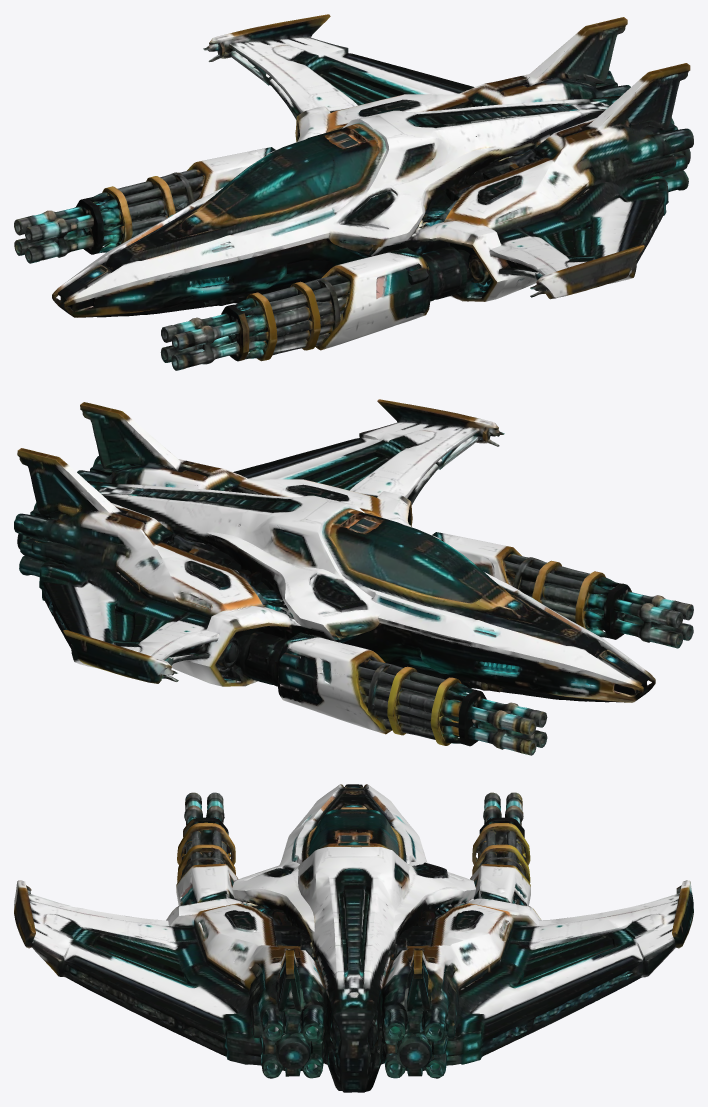
File: blaster.glb
The picture shows the model from 3 angles, top to bottom: view 1: azimuth 30°, elevation 25°; view 2: azimuth 150°, elevation 25°; view 3: azimuth 270°, elevation 25°; orthographic projection.
Visible parts, largest first — view 1: mesh_0; view 2: mesh_0; view 3: mesh_0.
Part boxes in pixels (bbox=[...]): mesh_0: bbox=[14, 14, 693, 370]; mesh_0: bbox=[14, 399, 693, 755]; mesh_0: bbox=[14, 784, 693, 1092].
Size of the model in its own units: 1.9 by 0.4768 by 1.83.
Materials: 1 (1 with a texture image).
